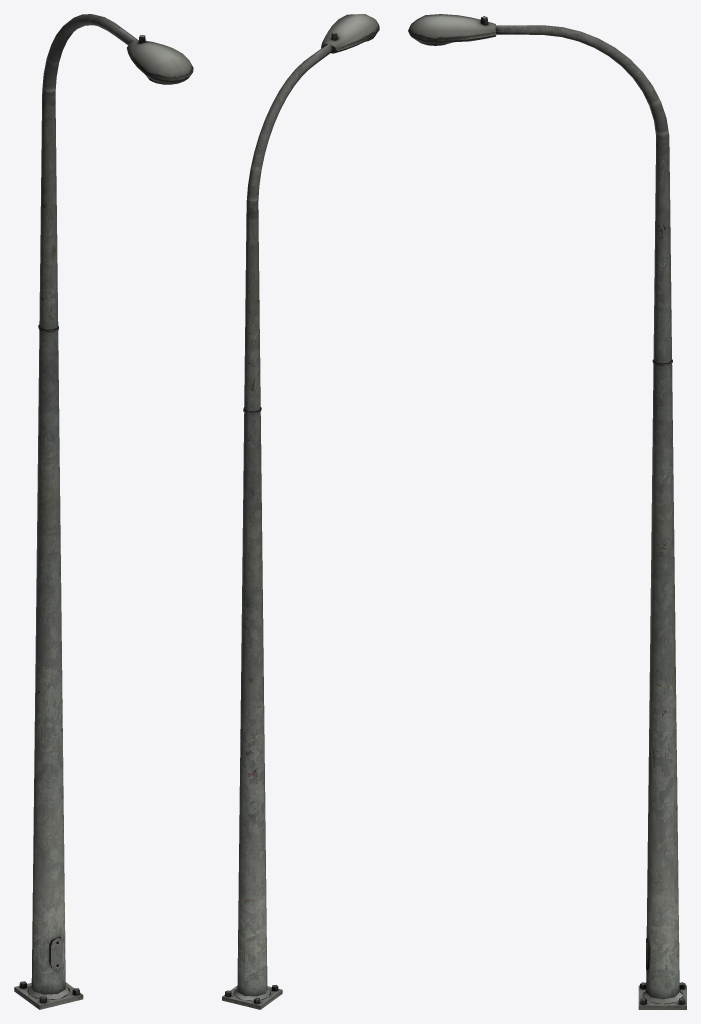
File: Farola.fbx
The picture shows the model from 3 angles, left to right: view 1: azimuth 30°, elevation 25°; view 2: azimuth 150°, elevation 25°; view 3: azimuth 270°, elevation 25°; orthographic projection. The views are drawn at different scales.
Parts seen in each view (by area): view 1: Farola.001; view 2: Farola.001; view 3: Farola.001.
Boxes of the visible parts, box(x1,y1,x2,y2) form: Farola.001: box(14, 14, 193, 1009); Farola.001: box(222, 14, 379, 1009); Farola.001: box(408, 14, 686, 1009).
Size of the model in its own units: 0.4079 by 9.18 by 2.36.
Materials: 1 (1 with a texture image).
